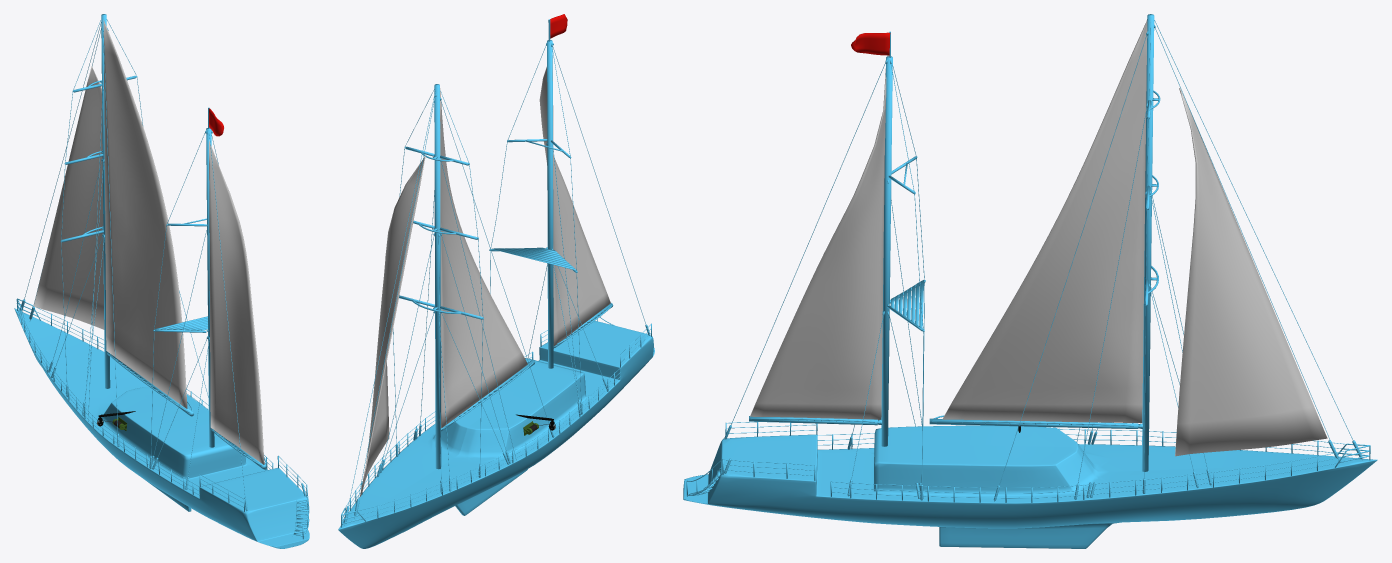
Rendered from Boat.fbx.
3 renders of one model, left to right at view 1: azimuth 30°, elevation 25°; view 2: azimuth 150°, elevation 25°; view 3: azimuth 270°, elevation 25°, orthographic. The views are drawn at different scales.
Visible parts, largest first — view 1: Sail Boat, sail 2, sail 1, sail 3; view 2: Sail Boat, sail 2, sail 1, sail 3; view 3: Sail Boat, sail 2, sail 3, sail 1.
Boxes of the visible parts, box(x1,y1,x2,y2) form: Sail Boat: box(14, 14, 309, 548); sail 2: box(103, 20, 187, 408); sail 1: box(209, 140, 264, 464); sail 3: box(33, 66, 104, 329); Sail Boat: box(338, 19, 654, 548); sail 2: box(440, 88, 527, 428); sail 1: box(539, 55, 610, 346); sail 3: box(360, 155, 425, 496); Sail Boat: box(683, 14, 1377, 548); sail 2: box(942, 19, 1147, 422); sail 3: box(1175, 88, 1327, 456); sail 1: box(750, 68, 886, 419).
Bounding box in the file's own units: 126 × 476 × 563.
